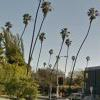Palm tree: (16, 4, 96, 67)
